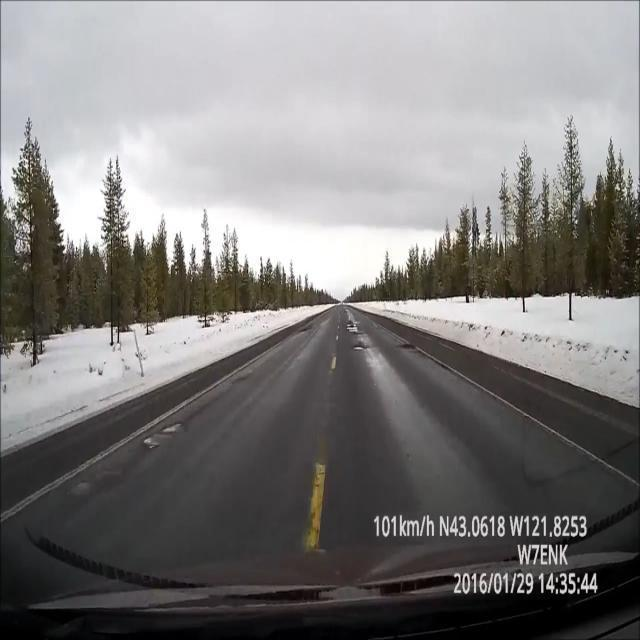pothole: (345, 317, 371, 357)
